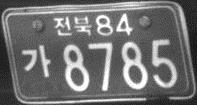4: (115, 12, 133, 36)
5: (151, 38, 178, 89)
7: (87, 41, 114, 91)
8: (121, 40, 148, 90), (62, 43, 89, 92), (95, 13, 113, 37)
가: (21, 44, 52, 78)
전북_O: (53, 15, 92, 36)
